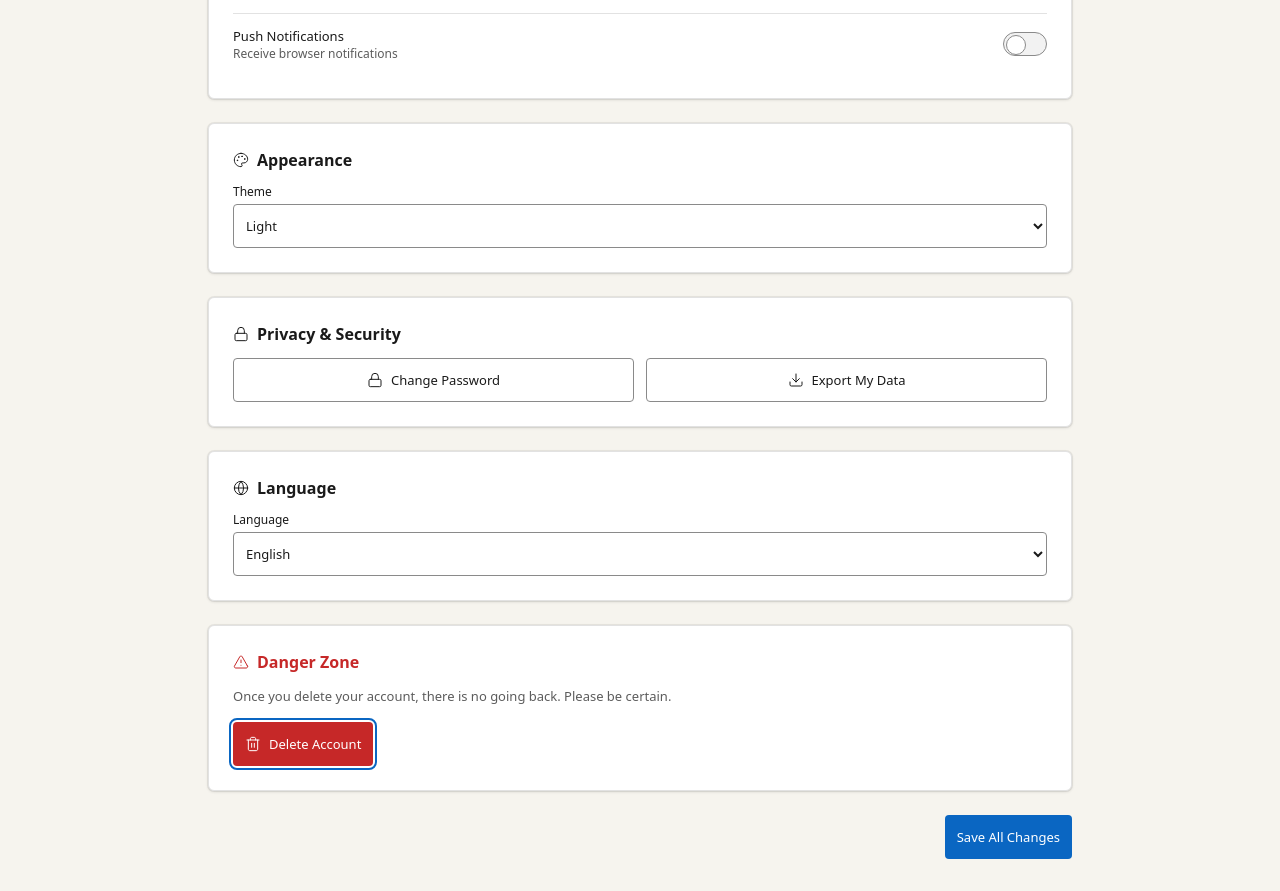
Test: SettingsPage dialogs › delete account opens with focus on its confirm field and Escape closes it
(page scrolled)
Click the button "Delete Account": [303, 744] box [233,722,373,766]
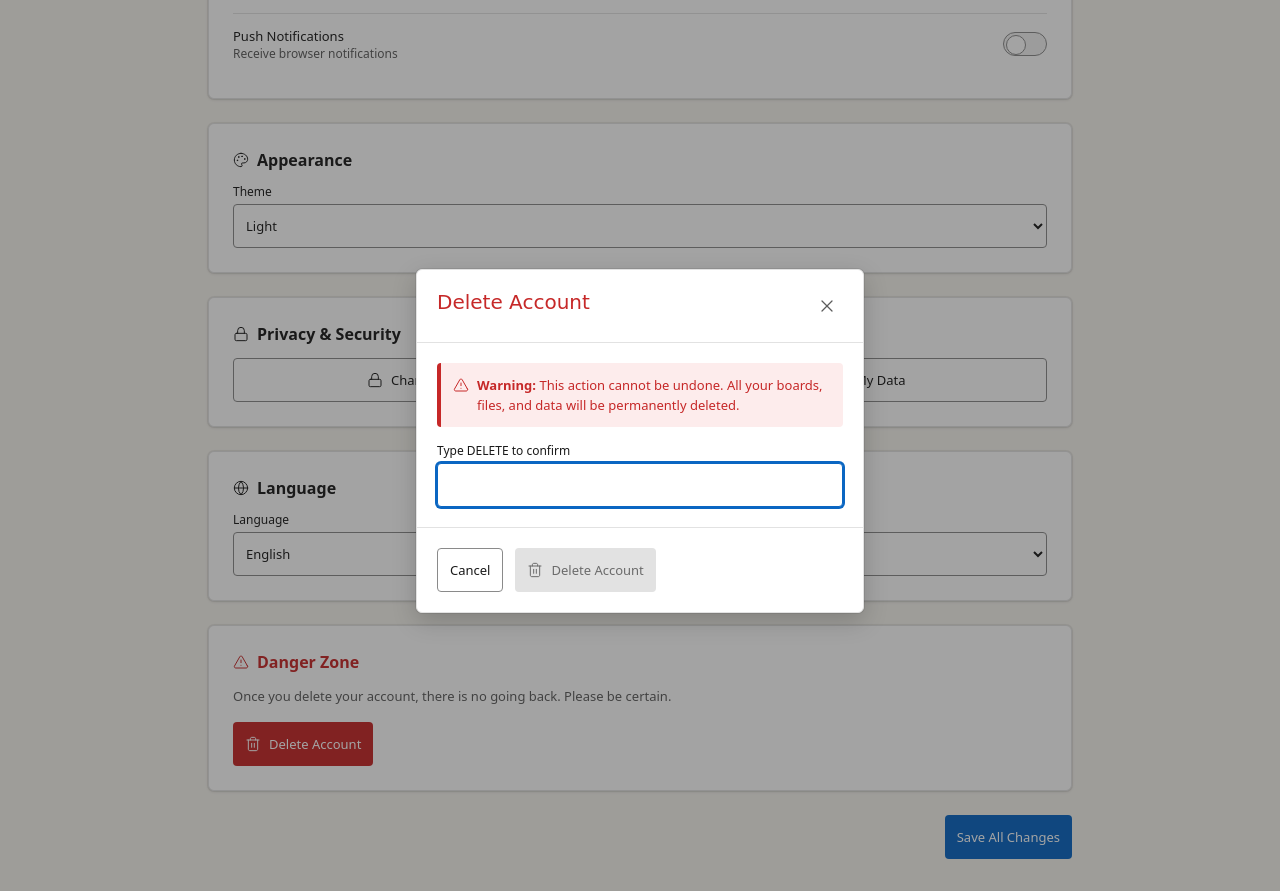
Press Escape
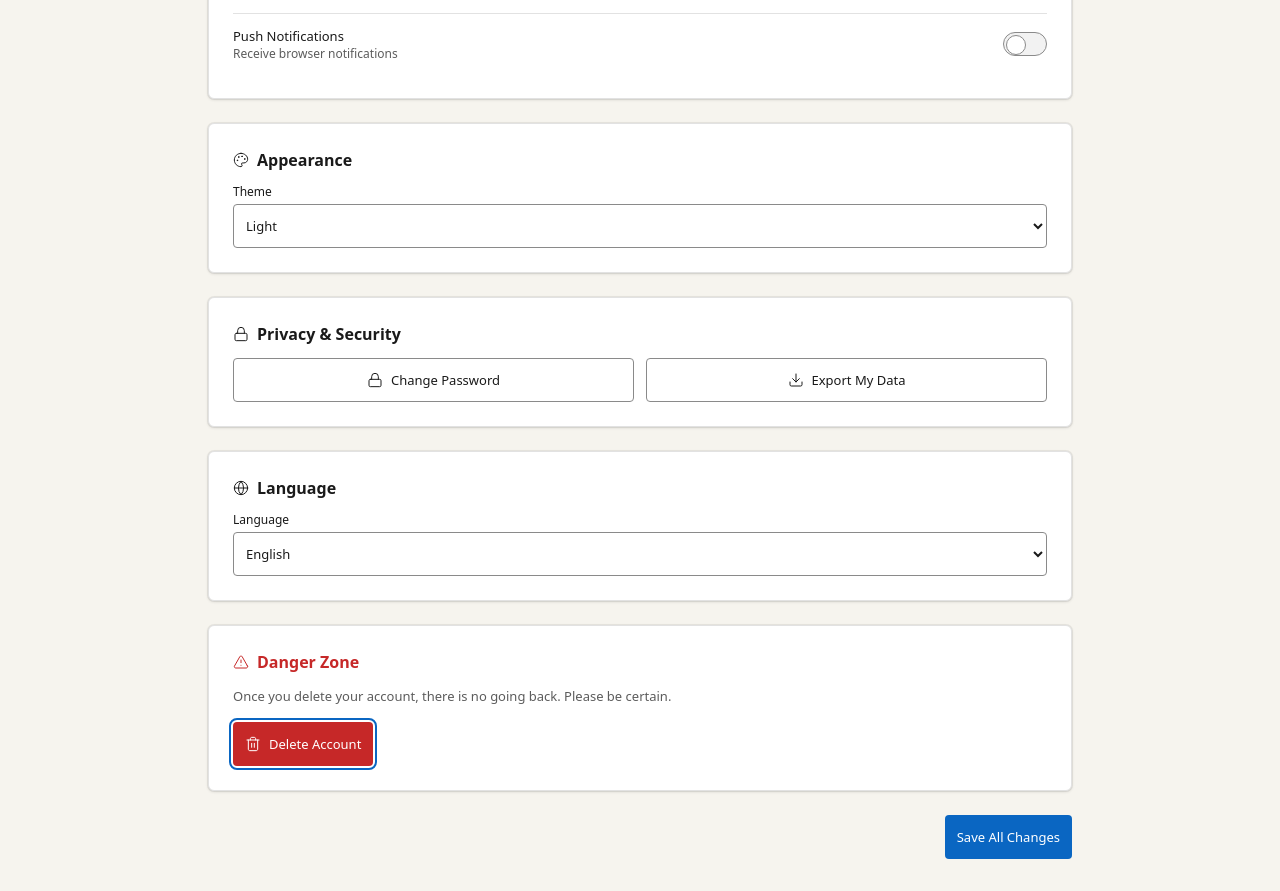
Expected: the dialog is gone
